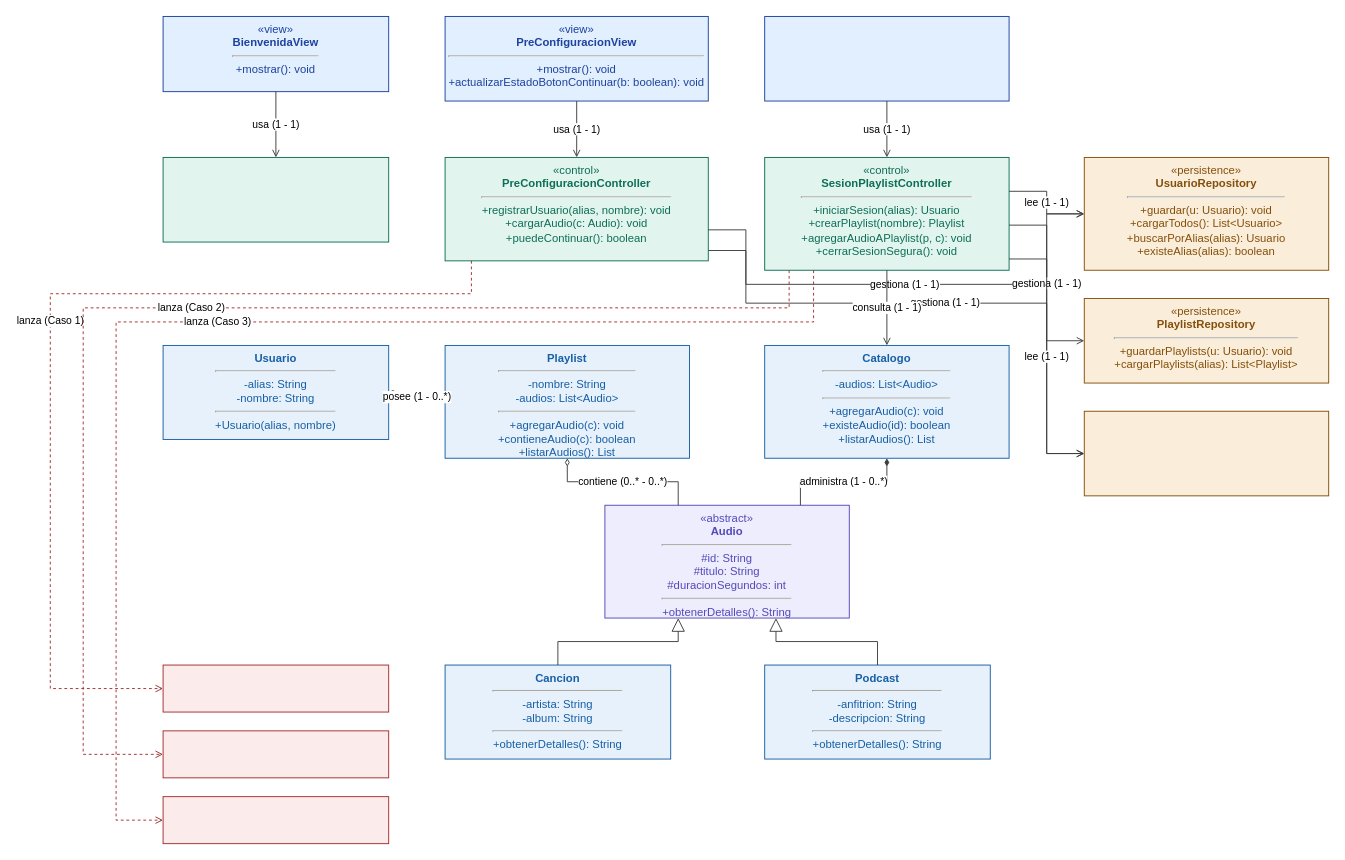
Image size: 1345x860. Some labels were removed from this diagram. The shapes that lost their labels are listed below. From the top down, each one's centre as x and y in pixels, then its label:
(886,58): «view» SesionPlaylistView +mostrar(): void +refrescarPlaylists(): void
(275,199): «control» BienvenidaController +continuar(): void +cerrarAplicacion(): void
(1206,453): «persistence» CatalogoRepository +guardar(c: Catalogo): void +cargar(): Catalogo
(275,688): «exception» AliasDuplicadoException
(275,754): «exception» UsuarioNoEncontradoException
(275,820): «exception» AudioDuplicadoException
